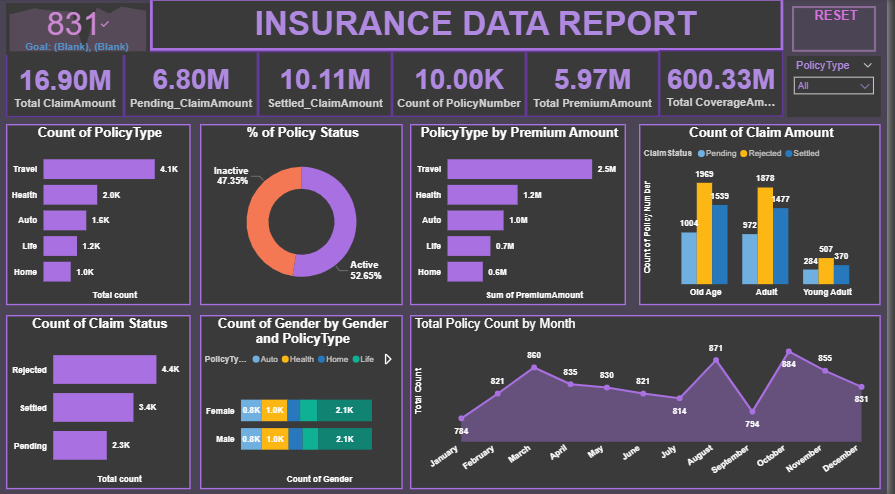

The page's visual inventory and layout, read from the dashboard file:
{"tool":"powerbi","page":{"name":"Page 1","canvas":[1280,720],"ordinal":0},"visuals":[{"type":"textbox","box":[217.4,0,911.5,76.3],"z":0},{"type":"card","fields":{"Values":["Sum(project insurance.ClaimAmount)"]},"box":[10.1,77.8,169.9,93.6],"z":1000},{"type":"card","fields":{"Values":["project insurance.Pending_ClaimAmount"]},"box":[180,76.3,193,95],"z":2000},{"type":"card","fields":{"Values":["project insurance.Settled_ClaimAmount"]},"box":[373,76.3,193,95],"z":3000},{"type":"card","fields":{"Values":["CountNonNull(project insurance.PolicyNumber)"]},"box":[565.9,76.3,193,95],"z":4000},{"type":"card","fields":{"Values":["Sum(project insurance.PremiumAmount)"]},"box":[758.9,76.3,191.5,95],"z":5000},{"type":"card","fields":{"Values":["Sum(project insurance.CoverageAmount)"]},"box":[950.4,74.9,178.6,96.5],"z":6000},{"type":"slicer","fields":{"Values":["project insurance.PolicyType"]},"box":[1134.7,83.5,135.4,87.8],"z":7000},{"type":"barChart","title":"Count of PolicyType ","fields":{"Category":["project insurance.PolicyType"],"Y":["CountNonNull(project insurance.PolicyType)"]},"box":[10.1,181.4,266.4,260.6],"z":8000},{"type":"barChart","title":"Count of Claim Status ","fields":{"Y":["CountNonNull(project insurance.PolicyType)"],"Category":["project insurance.ClaimStatus"]},"box":[10.1,456.5,266.4,250.6],"z":9000},{"type":"donutChart","title":"% of Policy Status ","fields":{"Category":["project insurance.Policy_Status"],"Y":["CountNonNull(project insurance.Policy_Status)"]},"box":[289.4,181.4,292.3,260.6],"z":10000},{"type":"barChart","fields":{"Category":["project insurance.Gender"],"Y":["CountNonNull(project insurance.Gender)"],"Series":["project insurance.PolicyType"]},"box":[289.4,456.5,292.3,250.6],"z":11000},{"type":"barChart","title":"PolicyType by Premium Amount","fields":{"Category":["project insurance.PolicyType"],"Y":["Sum(project insurance.PremiumAmount)"]},"box":[591.8,181.4,311,260.6],"z":12000},{"type":"areaChart","title":"Total Policy Count by Month","fields":{"Category":["project insurance.PolicyStartDate.Variation.Date Hierarchy.Year","project insurance.PolicyStartDate.Variation.Date Hierarchy.Quarter","project insurance.PolicyStartDate.Variation.Date Hierarchy.Month","project insurance.PolicyStartDate.Variation.Date Hierarchy.Day"],"Y":["CountNonNull(project insurance.PolicyNumber)"]},"box":[591.8,456.5,678.2,250.6],"z":13000},{"type":"clusteredColumnChart","title":"Count of Claim Amount","fields":{"Category":["project insurance.Age_Flag"],"Y":["CountNonNull(project insurance.PolicyNumber)"],"Series":["project insurance.ClaimStatus"]},"box":[921.6,181.4,348.5,260.6],"z":14000},{"type":"kpi","title":"Policy KPI","fields":{"Indicator":["project insurance.Total_policy_2024"],"Goal":["project insurance.Total_policy_2023","Min(project insurance.PolicyStartDate.Variation.Date Hierarchy.Quarter)"],"TrendLine":["project insurance.PolicyStartDate.Variation.Date Hierarchy.Month"]},"box":[10.1,7.2,207.4,74.9],"z":15000},{"type":"actionButton","title":"RESET","box":[1141.9,11.5,121,66.2],"z":16000}]}

Visuals, with their boxes in screenshot pixels (x1, y1, x2, y2), scaled from the page's 1280x720 canvas onto the 895x494 screenshot:
textbox: 152 0 789 52
card - Sum(project insurance.ClaimAmount): 7 53 126 118
card - project insurance.Pending_ClaimAmount: 126 52 261 118
card - project insurance.Settled_ClaimAmount: 261 52 396 118
card - CountNonNull(project insurance.PolicyNumber): 396 52 531 118
card - Sum(project insurance.PremiumAmount): 531 52 665 118
card - Sum(project insurance.CoverageAmount): 665 51 789 118
slicer - project insurance.PolicyType: 793 57 888 118
"Count of PolicyType " barChart: 7 124 193 303
"Count of Claim Status " barChart: 7 313 193 485
"% of Policy Status " donutChart: 202 124 407 303
barChart - project insurance.Gender x CountNonNull(project insurance.Gender): 202 313 407 485
"PolicyType by Premium Amount" barChart: 414 124 631 303
"Total Policy Count by Month" areaChart: 414 313 888 485
"Count of Claim Amount" clusteredColumnChart: 644 124 888 303
"Policy KPI" kpi: 7 5 152 56
"RESET" actionButton: 798 8 883 53
